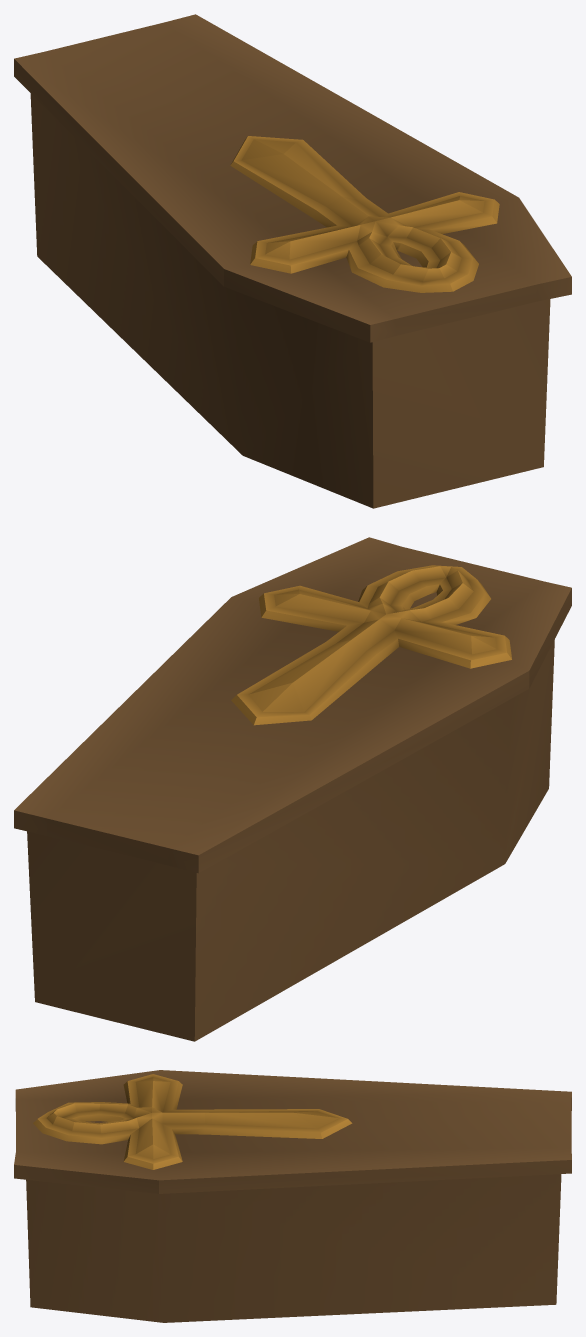
File: obj_coffin_D_LOW.FBX
3 renders of one model, top to bottom at view 1: azimuth 30°, elevation 25°; view 2: azimuth 150°, elevation 25°; view 3: azimuth 270°, elevation 25°, orthographic. The views are drawn at different scales.
Visible parts, largest first — view 1: obj_coffin_D_LOW; view 2: obj_coffin_D_LOW; view 3: obj_coffin_D_LOW.
Part boxes in pixels (x1,y1,x2,y2): obj_coffin_D_LOW: (14, 14, 571, 508); obj_coffin_D_LOW: (14, 537, 571, 1041); obj_coffin_D_LOW: (14, 1070, 571, 1322).
Bounding box in the file's own units: 1.54 × 1.05 × 3.3.
